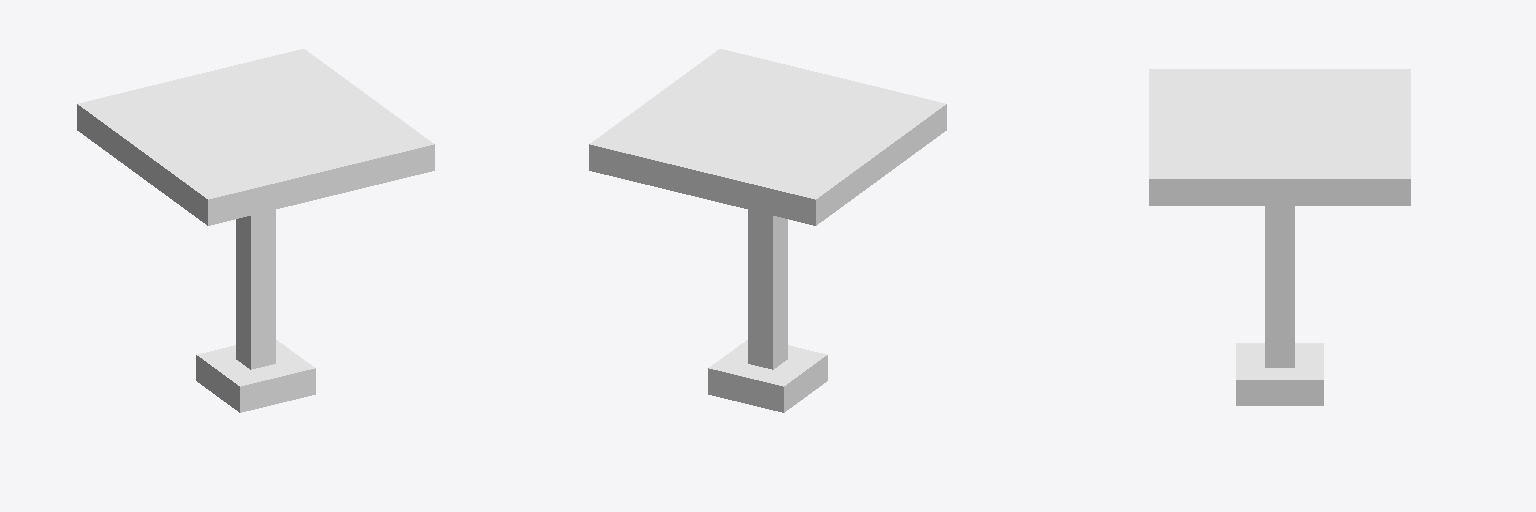
File: Decor-78.obj
The picture shows the model from 3 angles: view 1: azimuth 30°, elevation 25°; view 2: azimuth 150°, elevation 25°; view 3: azimuth 270°, elevation 25°; orthographic projection.
Parts seen in each view (by area): view 1: object 1; view 2: object 1; view 3: object 1.
Boxes of the visible parts, x1,y1,x2,y2 form: object 1: [77, 49, 434, 412]; object 1: [589, 49, 946, 412]; object 1: [1149, 69, 1410, 405].
Size of the model in its own units: 0.9 by 1 by 0.9.